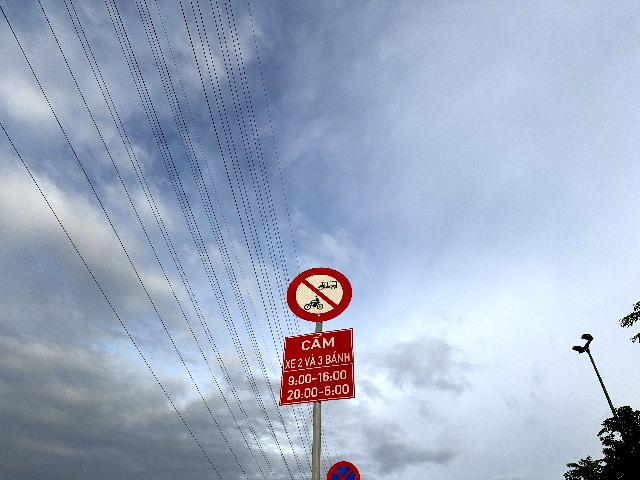cam-xe-2-banh-3-banh: (287, 267, 352, 322)
